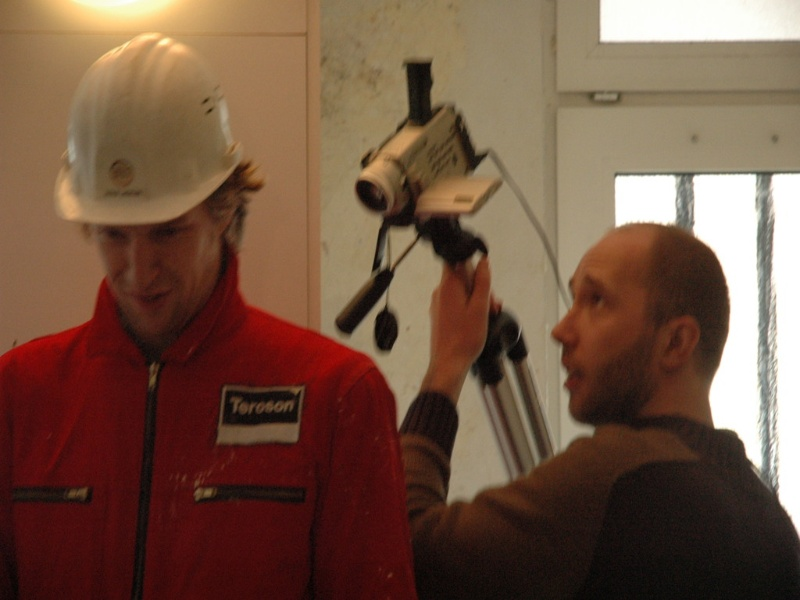Baret: (57, 32, 241, 224)
